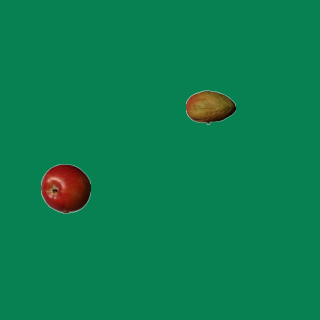Apple Braeburn: (40, 163, 90, 213)
Papaya: (185, 82, 235, 132)
